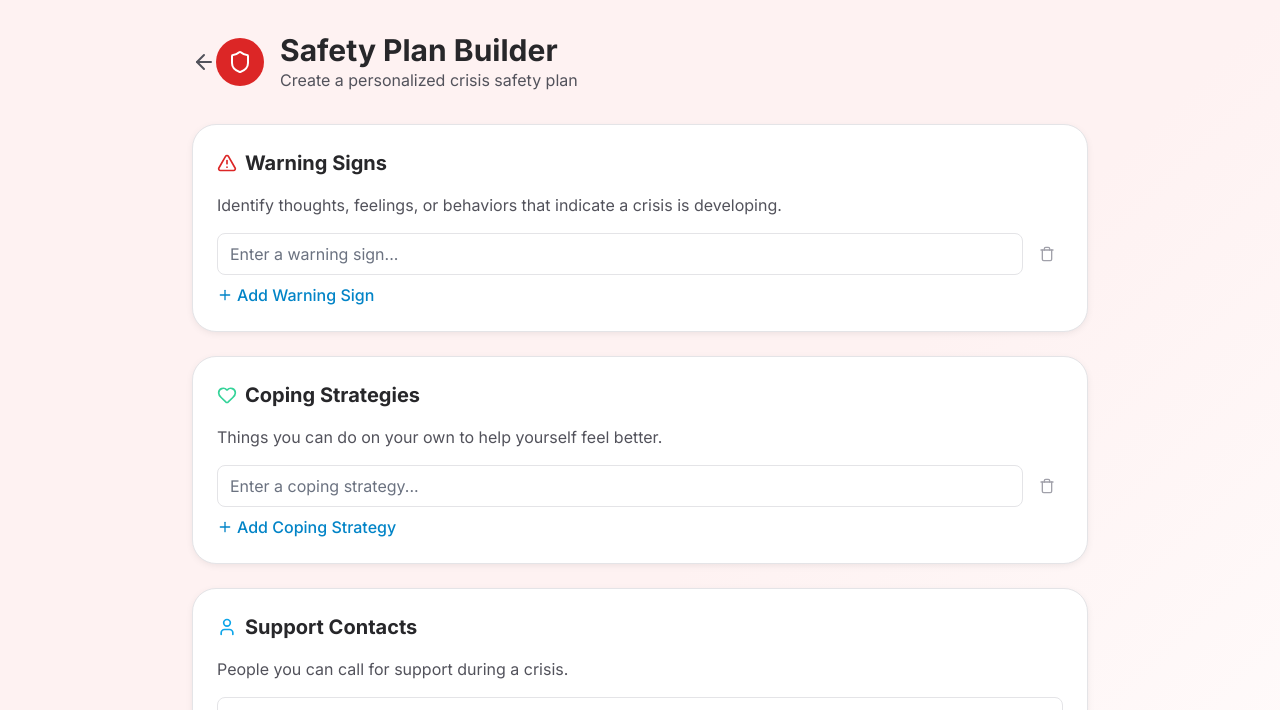
Test case: SafetyPlanPage › allows adding warning signs
This screenshot has width=1280, height=710.
Type "Feeling overwhelmed" into the field with placeholder "Enter a warning sign..." at (620,254), box [217,233,1023,275]
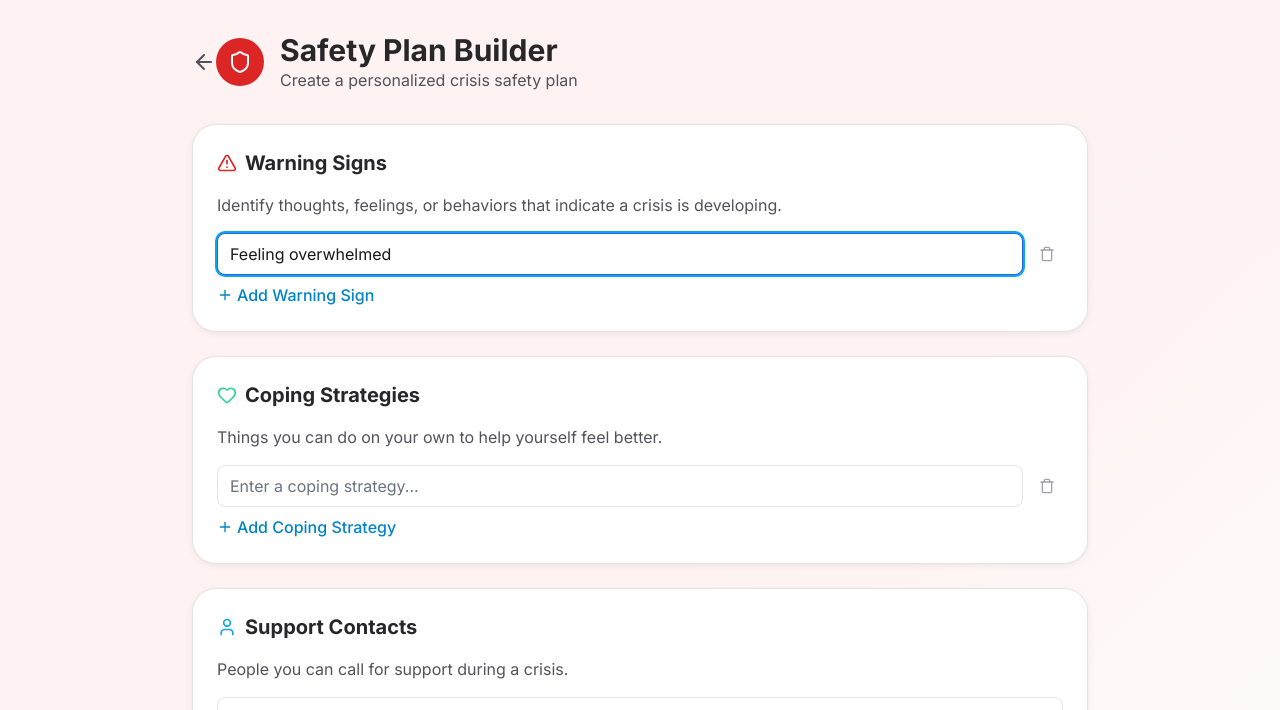
Click the button "Add Warning Sign" at (296,295), box [217,283,374,307]
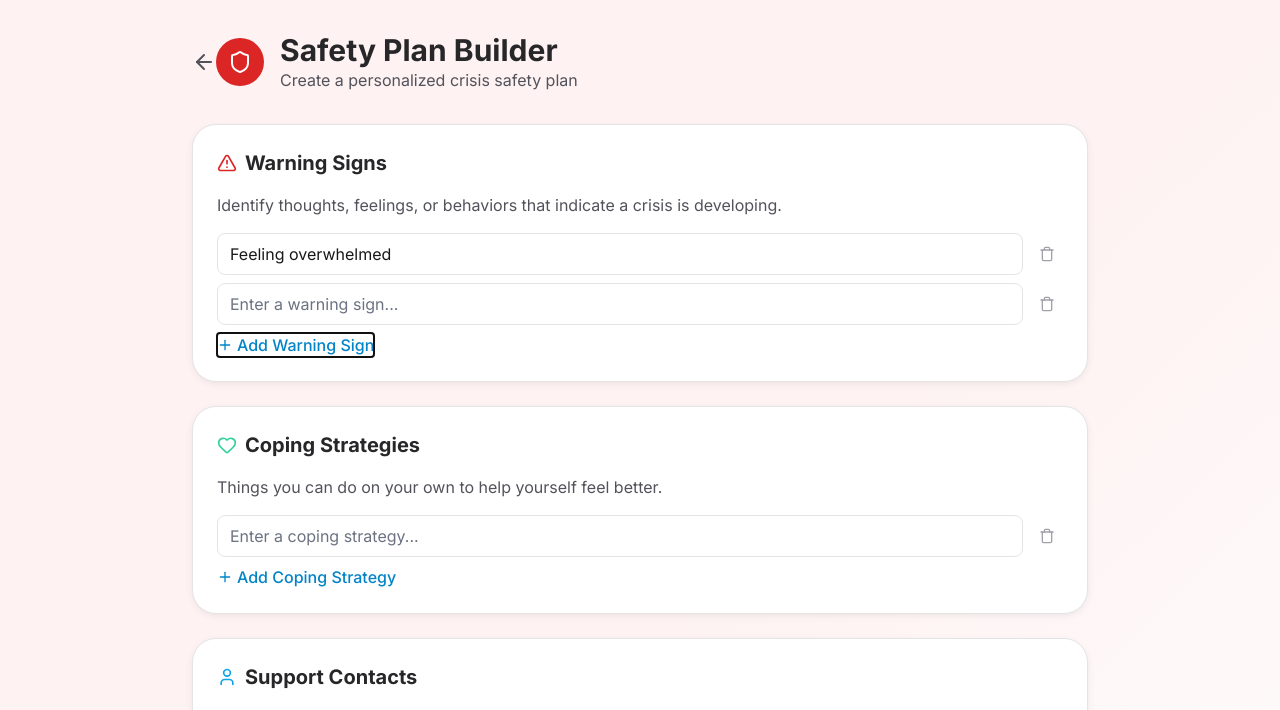
Now the number of fields with placeholder "Enter a warning sign..." is 2, box [217,233,1023,275]; [217,283,1023,325]
